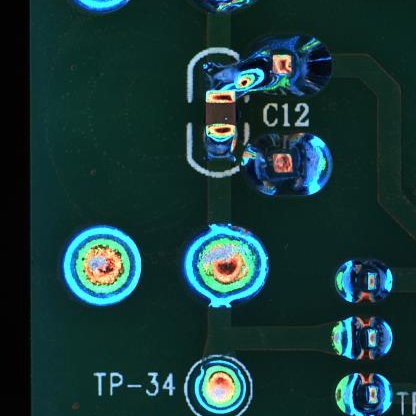spot: (180, 226, 269, 301), (63, 229, 143, 306), (242, 134, 334, 199), (242, 34, 333, 97), (189, 358, 250, 416), (330, 315, 395, 360), (331, 371, 394, 416), (335, 257, 392, 303)
